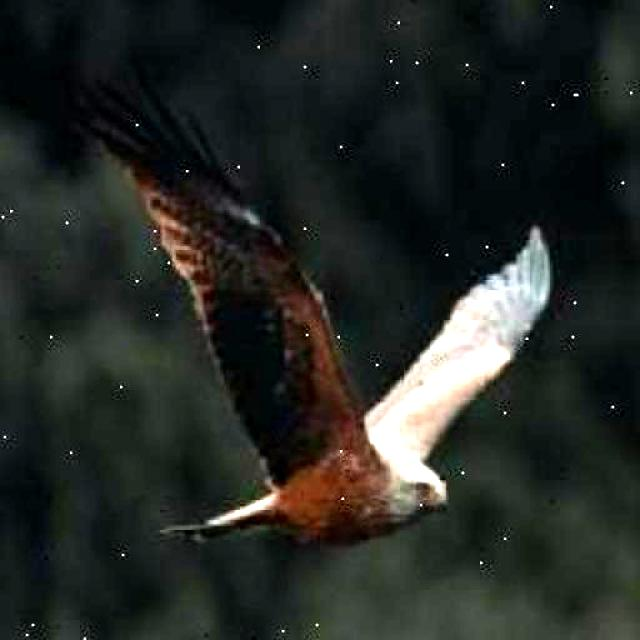airplane: (68, 54, 556, 548)
